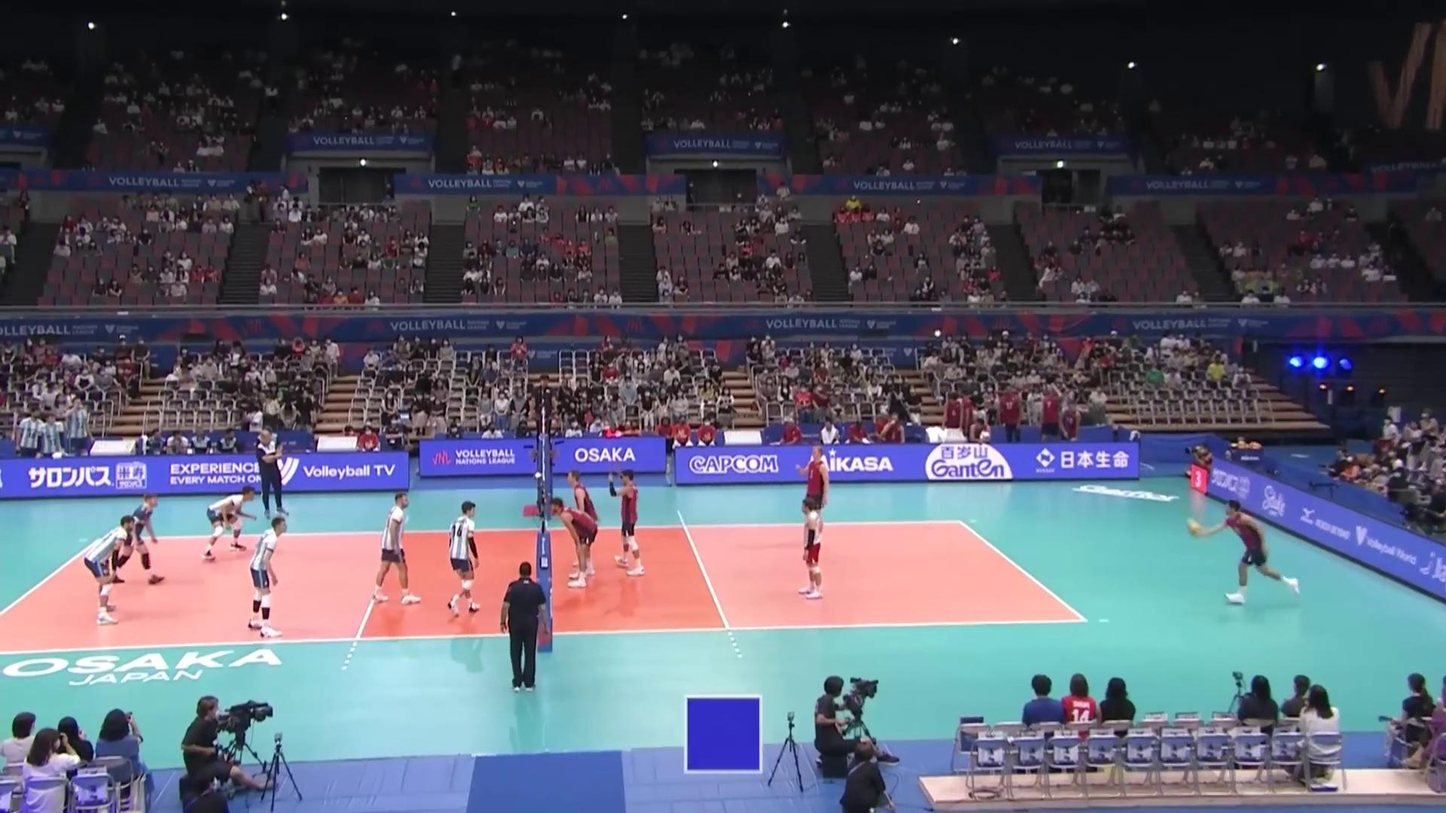player: (1190, 499, 1303, 604), (84, 517, 137, 625), (370, 493, 419, 605), (106, 492, 163, 584), (249, 518, 287, 638), (550, 498, 600, 588), (447, 501, 482, 615), (610, 470, 647, 576), (202, 488, 255, 561), (567, 470, 600, 575), (796, 445, 830, 538), (799, 499, 828, 601)
refree: (503, 565, 552, 692), (528, 374, 555, 458)
